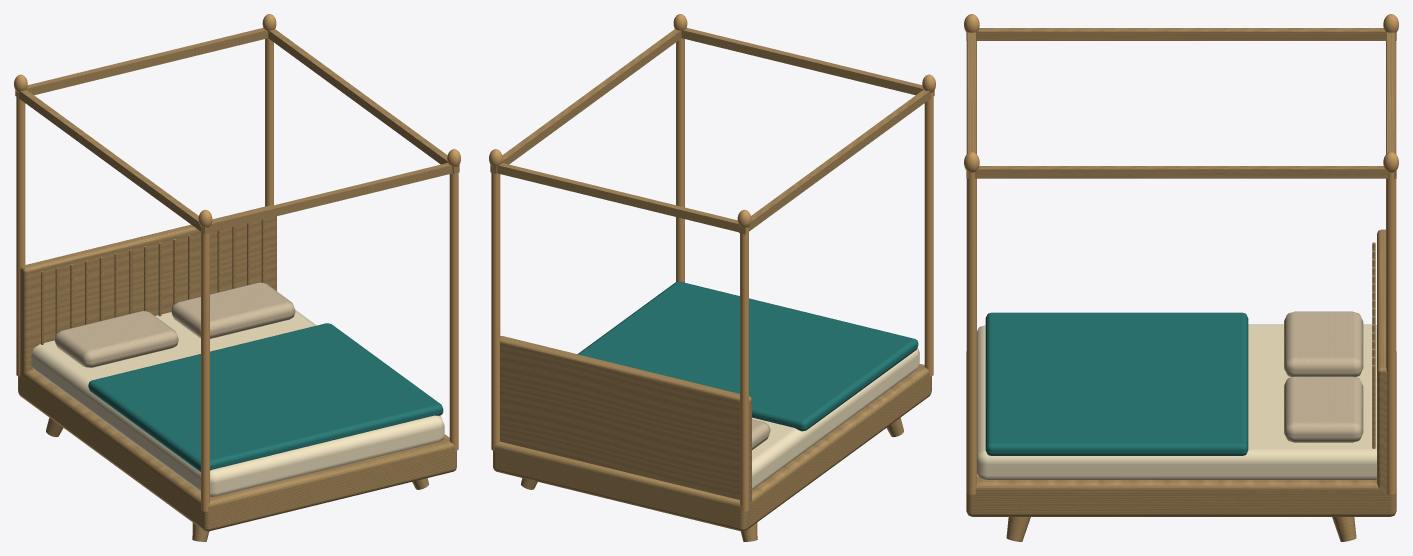
File: bed_canopy_veranda-1cfda42162fc.glb
3 renders of one model, left to right at view 1: azimuth 30°, elevation 25°; view 2: azimuth 150°, elevation 25°; view 3: azimuth 270°, elevation 25°, orthographic. The views are drawn at different scales.
Visible parts, largest first — view 1: surface_bamboo, surface_teal, surface_ivory, surface_brass, surface_linen; view 2: surface_bamboo, surface_teal, surface_brass, surface_ivory; view 3: surface_teal, surface_bamboo, surface_ivory, surface_linen, surface_brass.
Part boxes in pixels (x1=…): surface_bamboo: x1=15, y1=28, x2=459, y2=541; surface_teal: x1=88, y1=323, x2=443, y2=472; surface_ivory: x1=31, y1=310, x2=444, y2=496; surface_brass: x1=14, y1=14, x2=460, y2=511; surface_linen: x1=54, y1=282, x2=295, y2=367; surface_bamboo: x1=490, y1=28, x2=934, y2=541; surface_teal: x1=577, y1=281, x2=918, y2=431; surface_brass: x1=489, y1=14, x2=935, y2=511; surface_ivory: x1=752, y1=347, x2=919, y2=489; surface_teal: x1=985, y1=312, x2=1248, y2=455; surface_bamboo: x1=966, y1=28, x2=1396, y2=541; surface_ivory: x1=977, y1=324, x2=1376, y2=479; surface_linen: x1=1284, y1=311, x2=1363, y2=442; surface_brass: x1=964, y1=14, x2=1398, y2=494.
Size of the model in its own units: 1.6 by 2.05 by 2.03.
5 materials, 2 textured.
